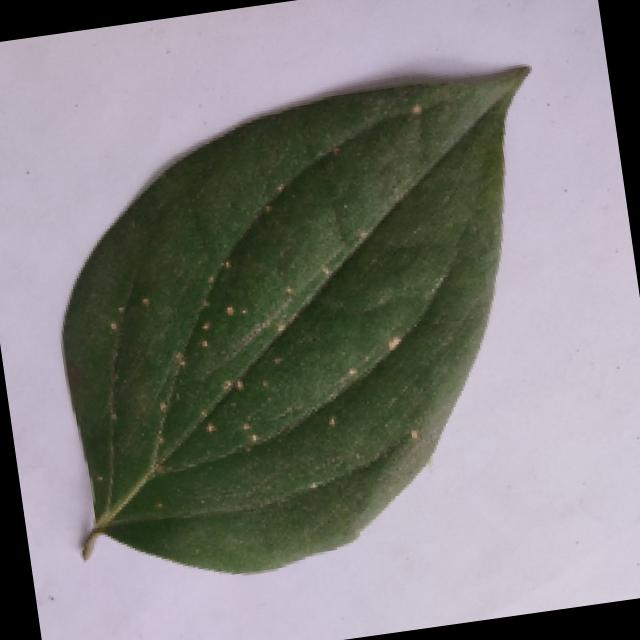pollu-disease: (11, 59, 606, 594)
